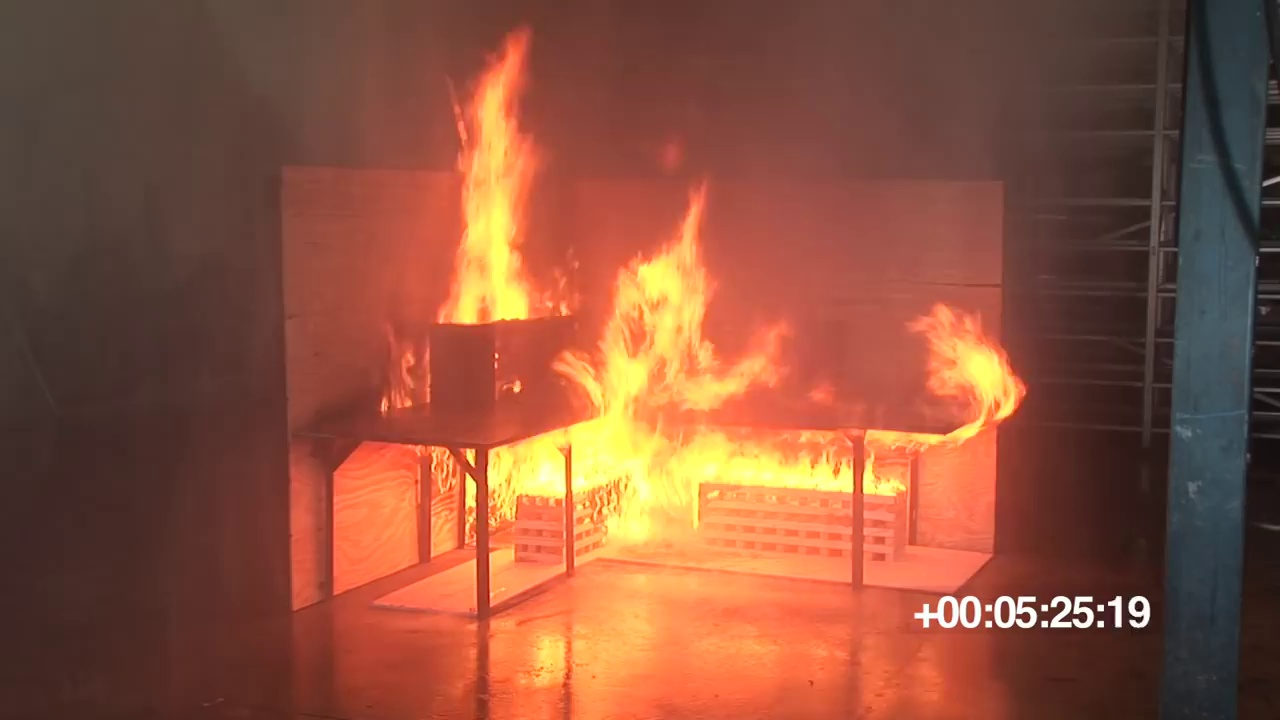fire: (557, 184, 790, 435), (440, 29, 537, 321), (491, 433, 905, 495), (913, 305, 1027, 425)
